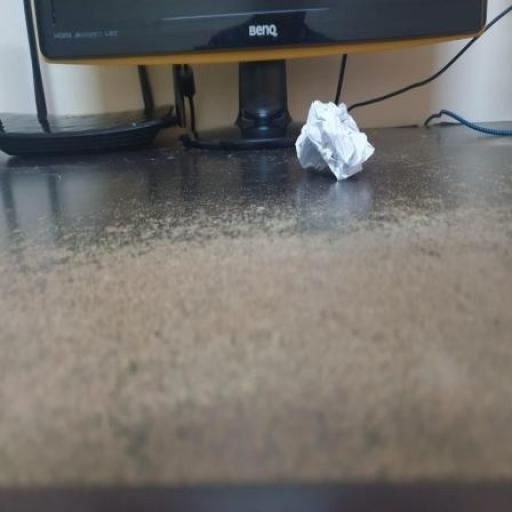paper: (279, 63, 386, 219)
